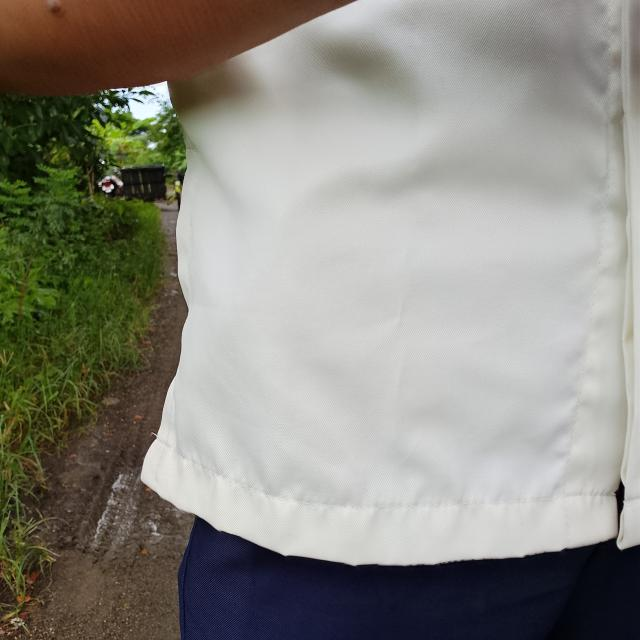education_male_uniform: (138, 46, 640, 563)
